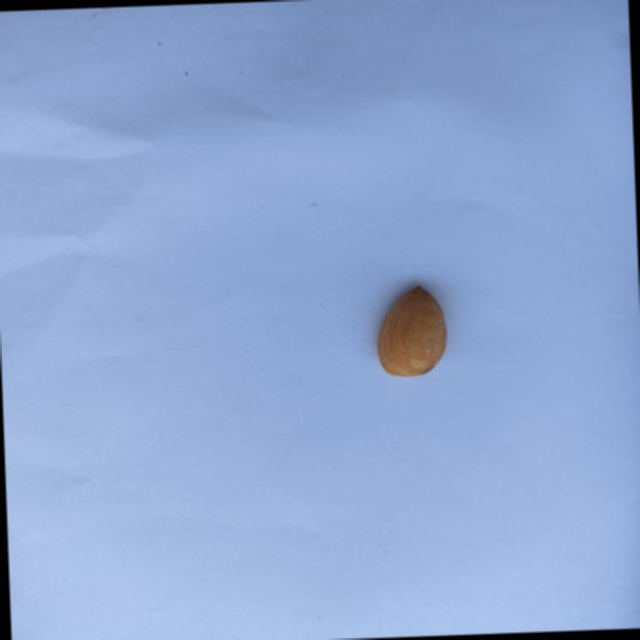grade2: (368, 282, 452, 381)
